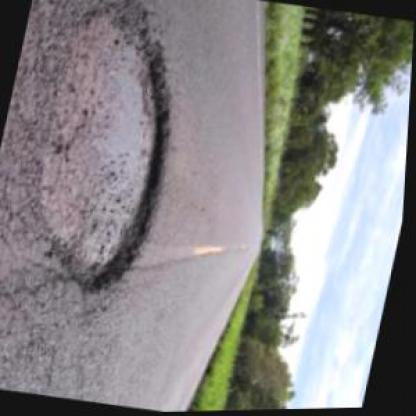pothole: (0, 0, 205, 308)
